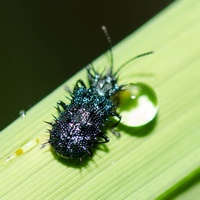insect: (43, 25, 152, 161)
